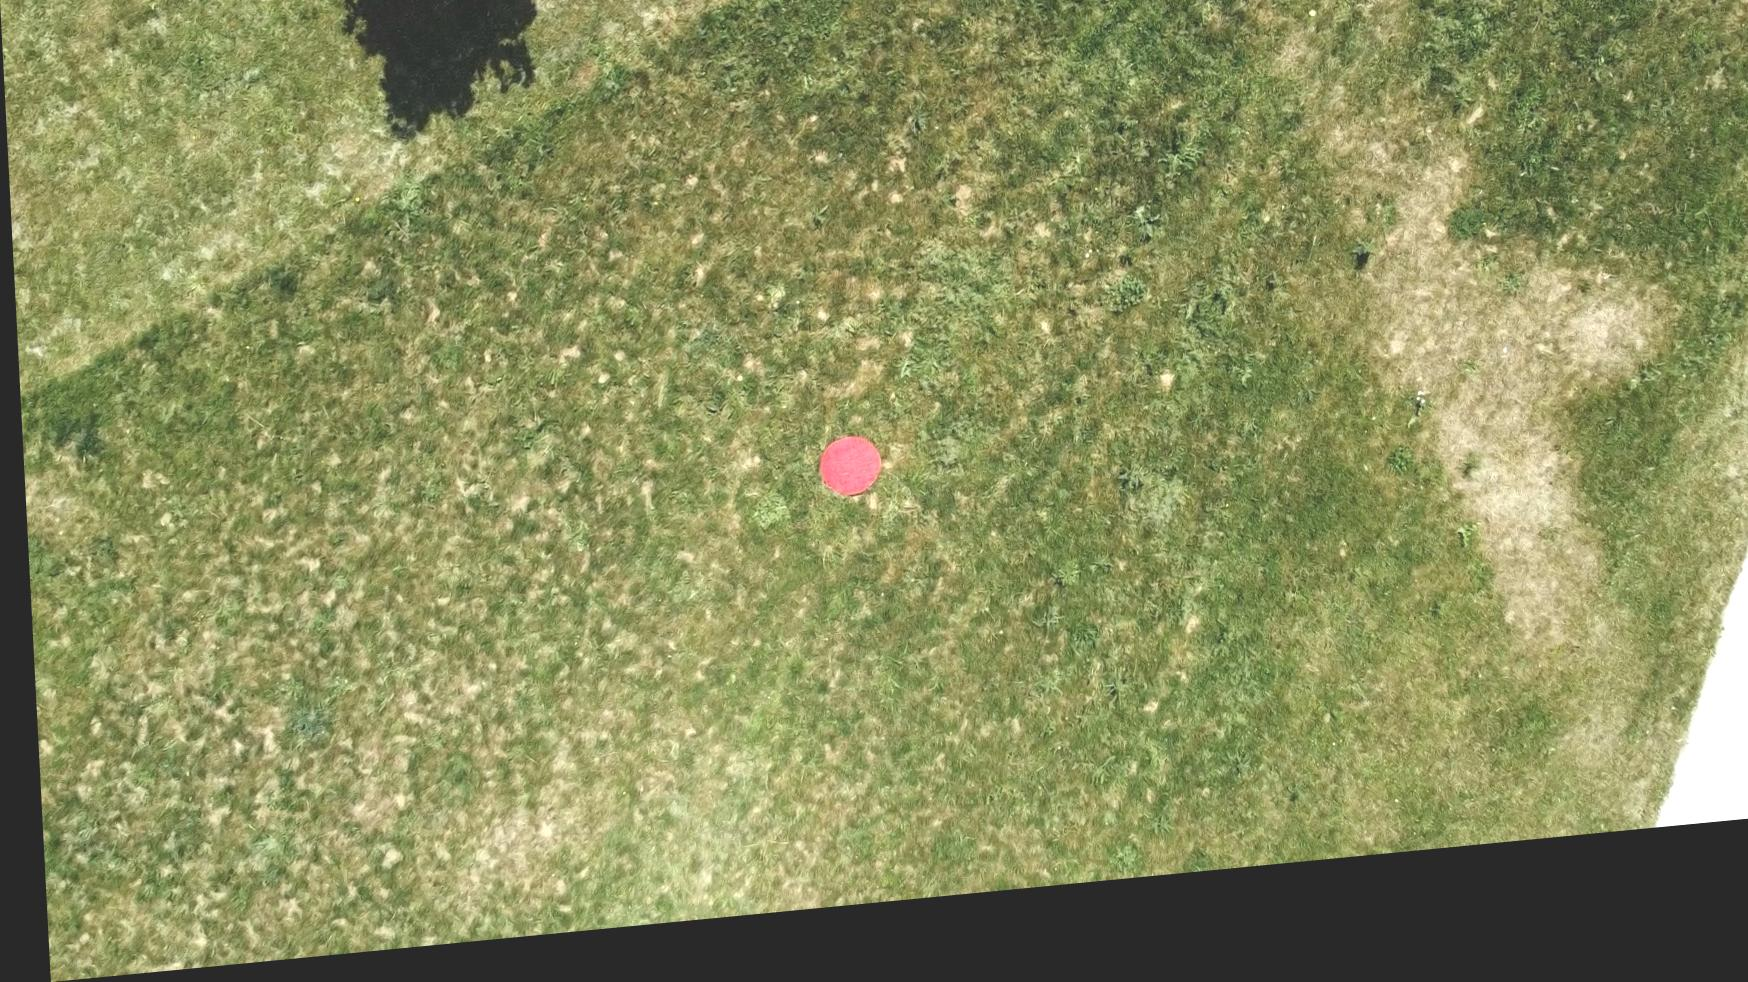Red: (808, 445, 880, 517)
